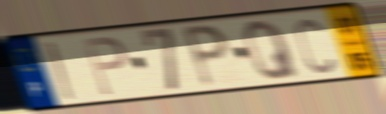7: (136, 25, 183, 94)
C: (293, 16, 337, 76)
I: (42, 39, 79, 102)
P: (179, 22, 232, 91), (80, 35, 130, 98)
Q: (241, 18, 303, 82)
